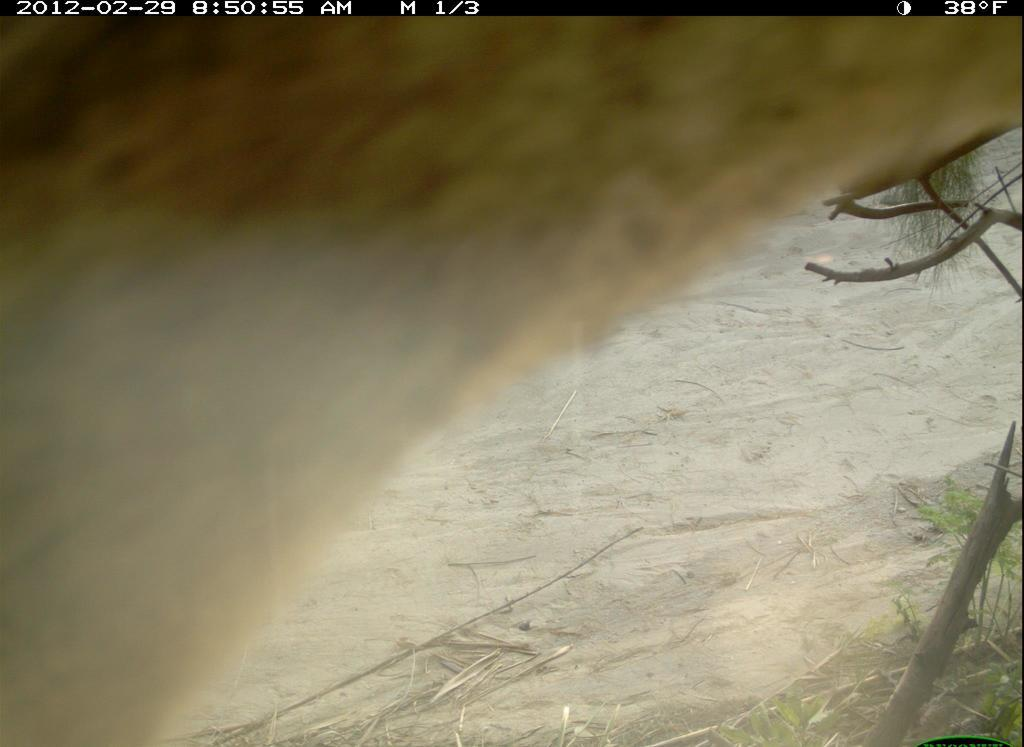coyote: (2, 17, 1021, 747)
